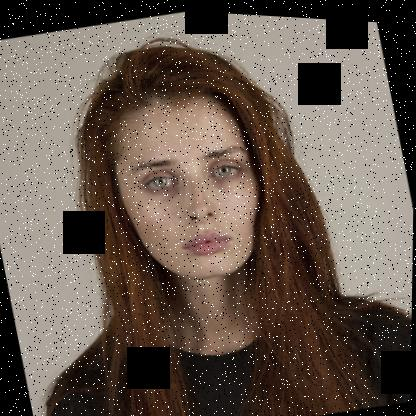Female: (102, 77, 276, 292)
